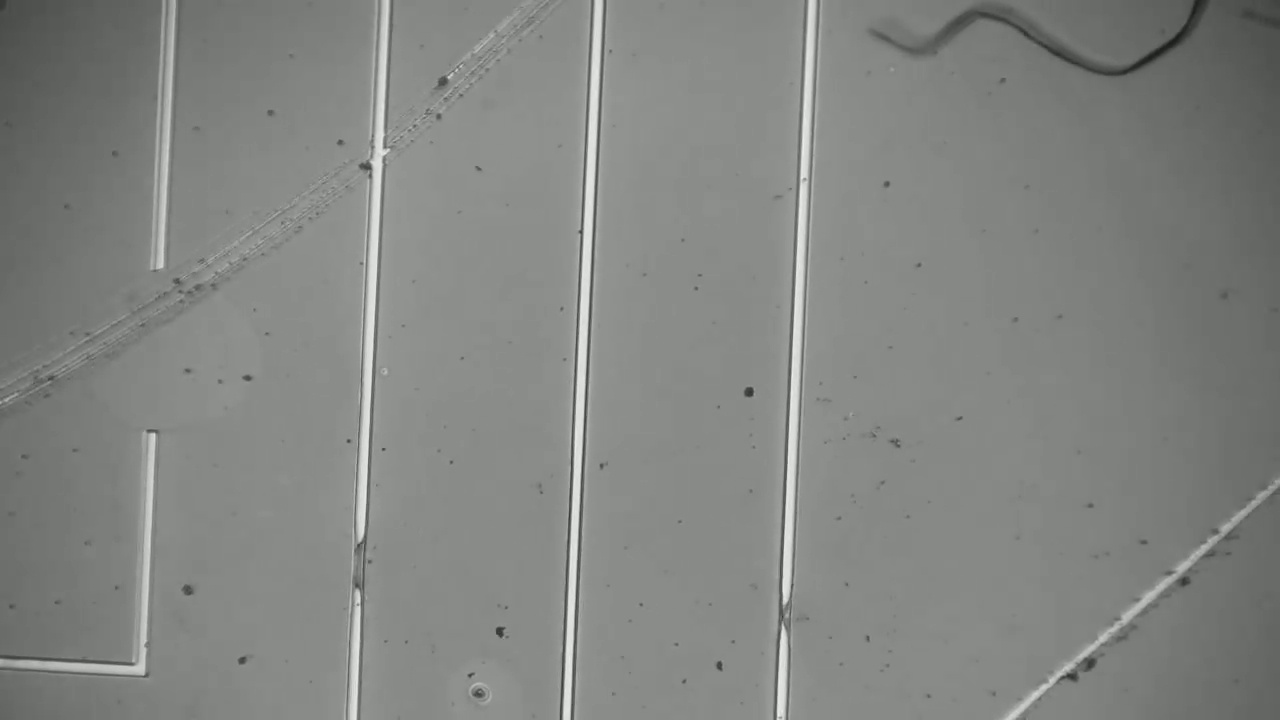gray_line: (331, 510, 384, 619), (755, 574, 805, 646)
open: (100, 214, 199, 471)
scratch: (0, 13, 562, 426), (978, 482, 1274, 720)
